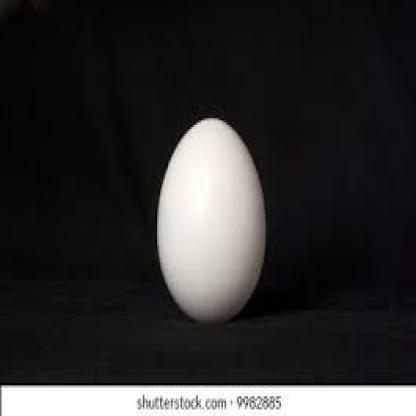egg: (157, 117, 266, 325)
